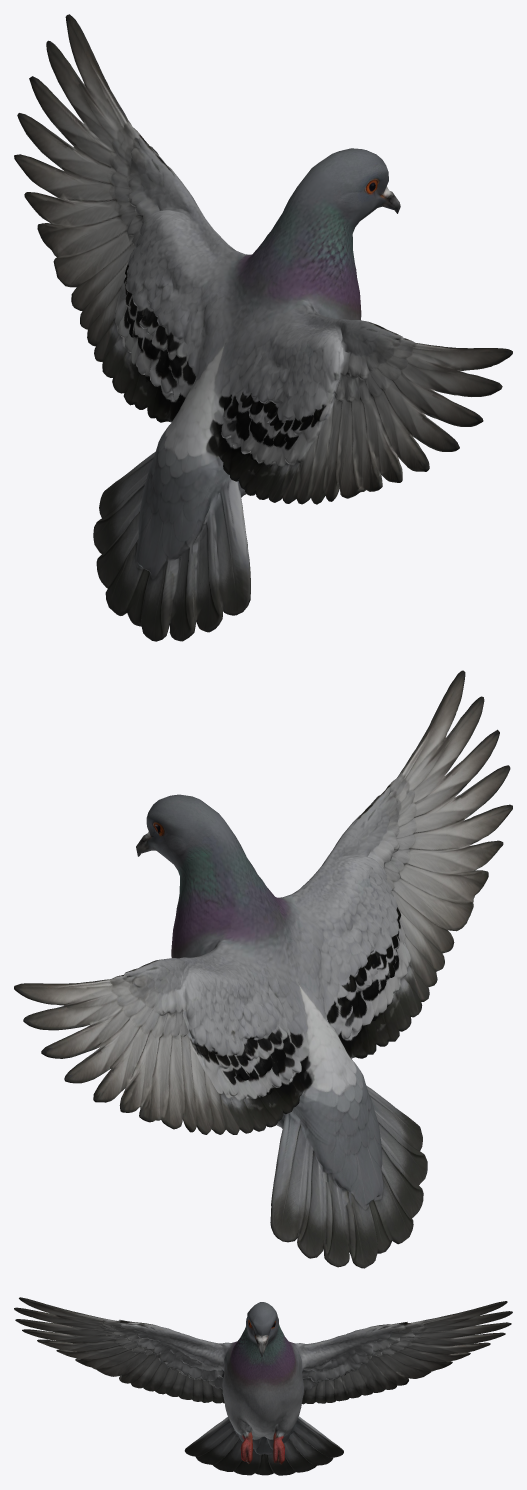
File: white-dove-static.glb
3 renders of one model, top to bottom at view 1: azimuth 30°, elevation 25°; view 2: azimuth 150°, elevation 25°; view 3: azimuth 270°, elevation 25°, orthographic. The views are drawn at different scales.
Visible parts, largest first — view 1: tripo_node_48a6ad9a-b56d-4287-bbd4-83745e4e6cb4; view 2: tripo_node_48a6ad9a-b56d-4287-bbd4-83745e4e6cb4; view 3: tripo_node_48a6ad9a-b56d-4287-bbd4-83745e4e6cb4.
Part boxes in pixels (x1=…): tripo_node_48a6ad9a-b56d-4287-bbd4-83745e4e6cb4: x1=14, y1=14, x2=512, y2=641; tripo_node_48a6ad9a-b56d-4287-bbd4-83745e4e6cb4: x1=14, y1=670, x2=512, y2=1268; tripo_node_48a6ad9a-b56d-4287-bbd4-83745e4e6cb4: x1=14, y1=1297, x2=512, y2=1475.
Size of the model in its own units: 0.2644 by 0.4 by 0.8025.
Materials: 1 (1 with a texture image).
